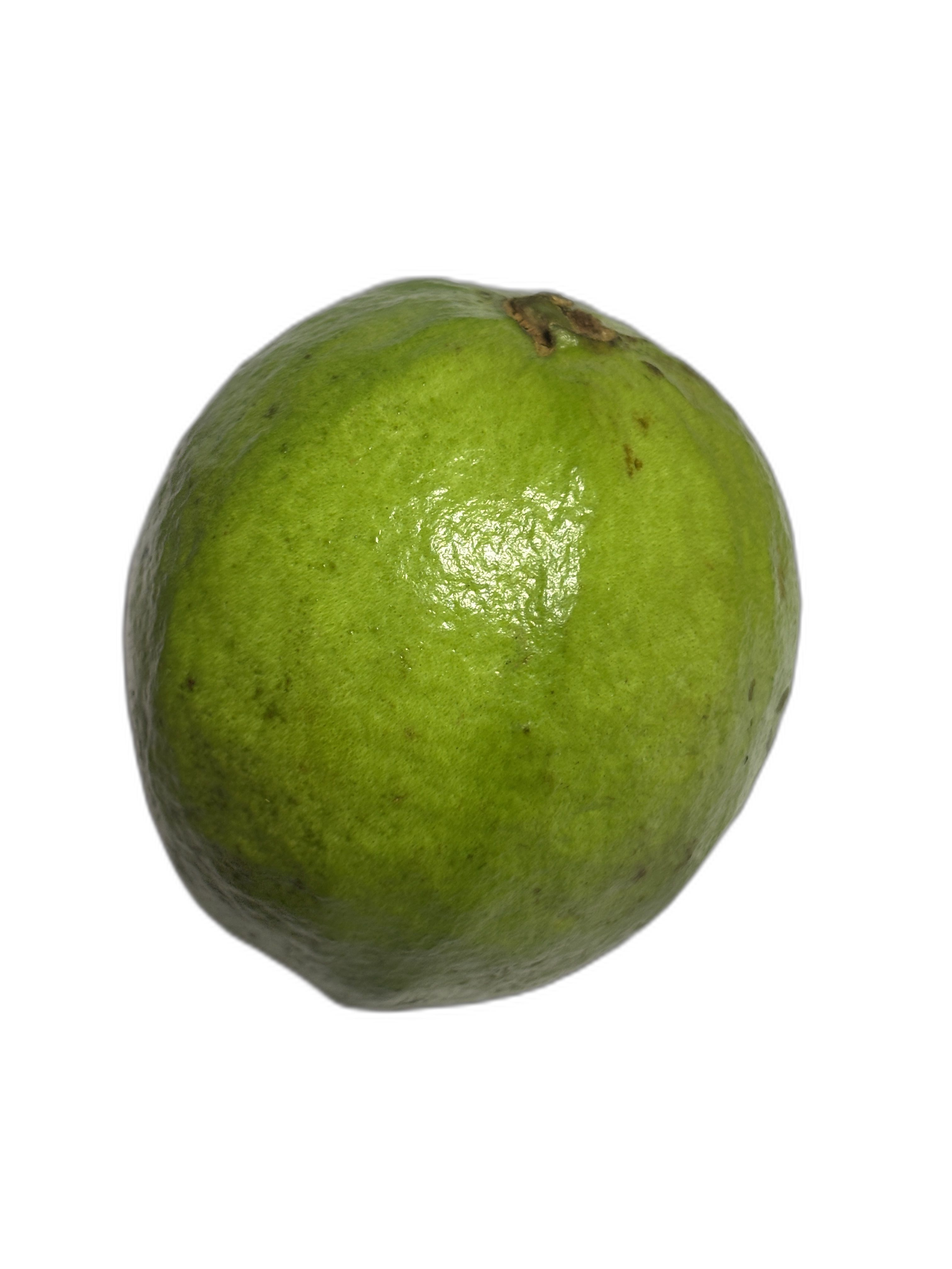guava: (244, 204, 861, 1087)
